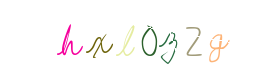0: (99, 0, 179, 80)
2: (118, 0, 198, 80)
G: (177, 0, 257, 80)
H: (28, 0, 108, 80)
L: (91, 0, 171, 80)
X: (28, 0, 108, 80)
Z: (113, 0, 193, 80)
